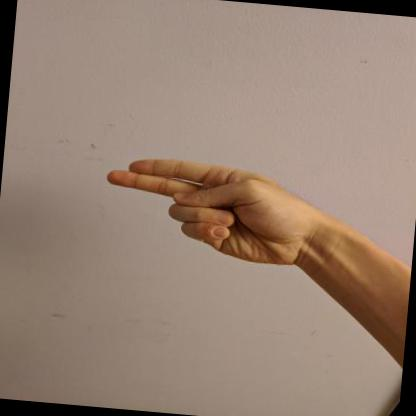H: (107, 159, 312, 274)
